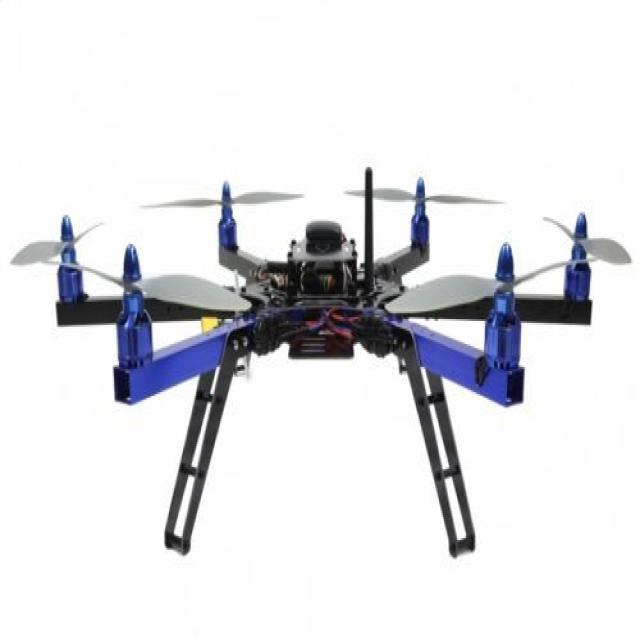drone: (0, 149, 640, 575)
